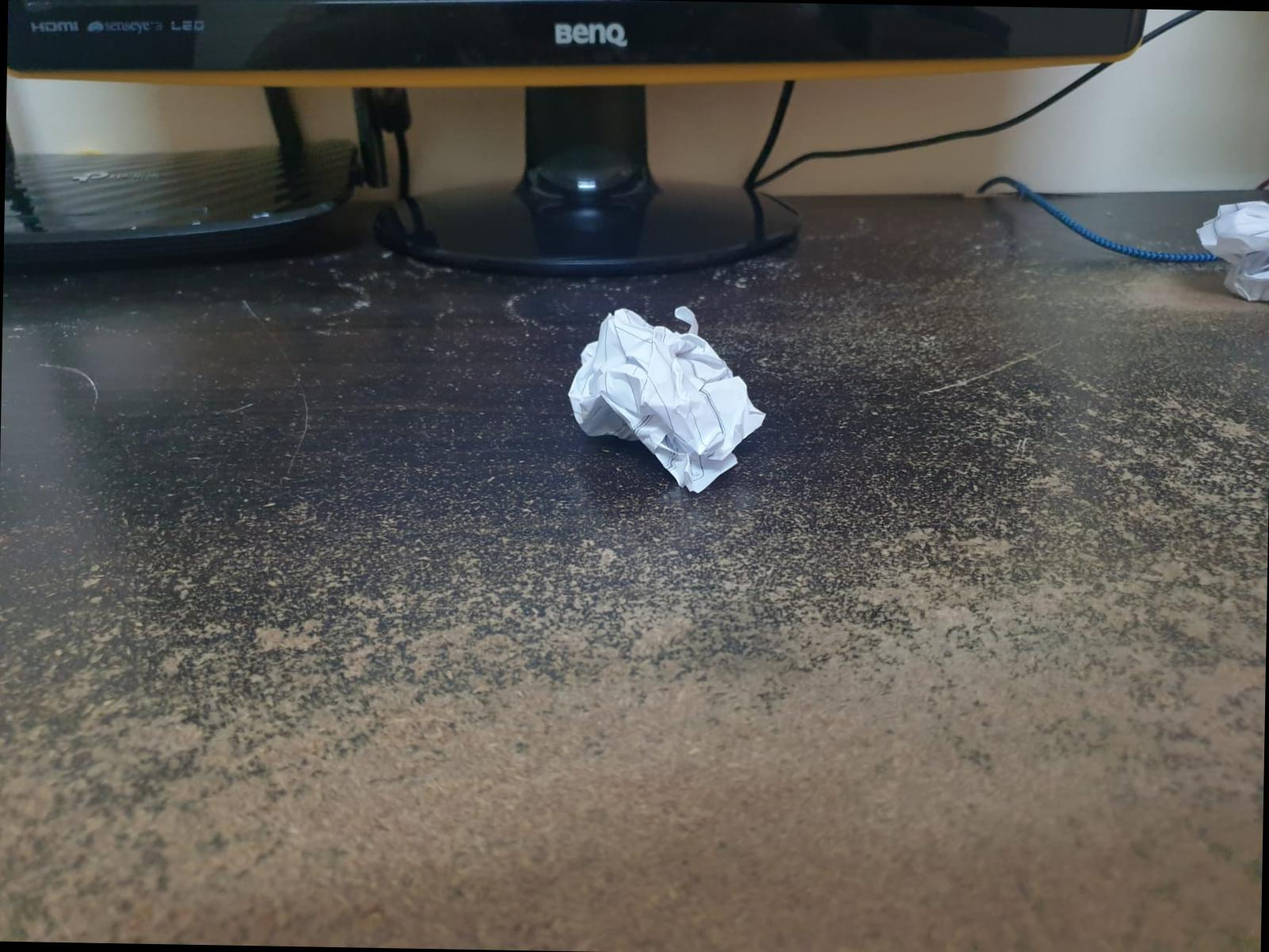Kertas: (566, 309, 777, 496)
